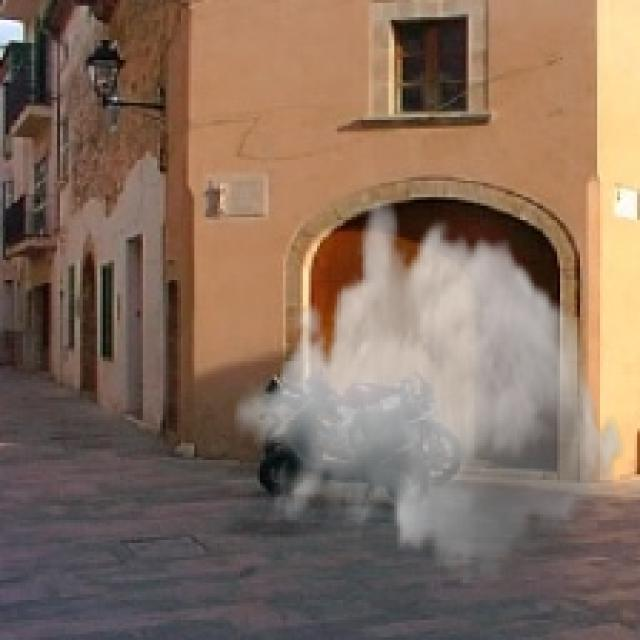smoke: (231, 192, 626, 594)
